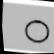no answer: (22, 17, 53, 46)
